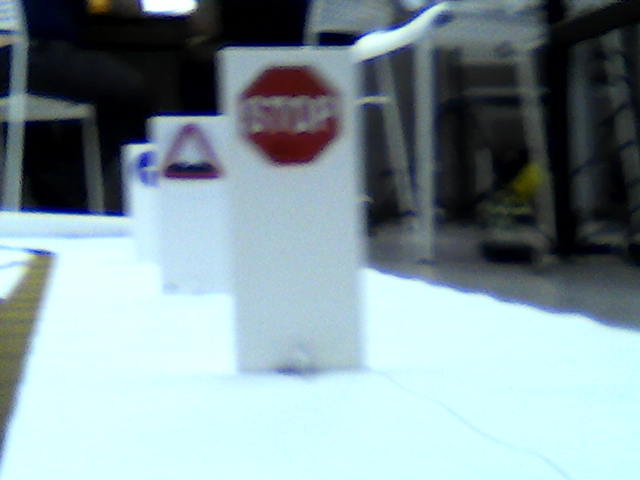Stop: (240, 63, 344, 165)
